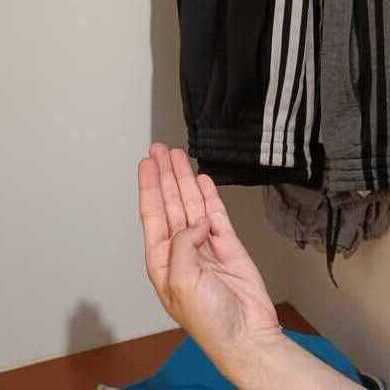B: (136, 141, 283, 365)
